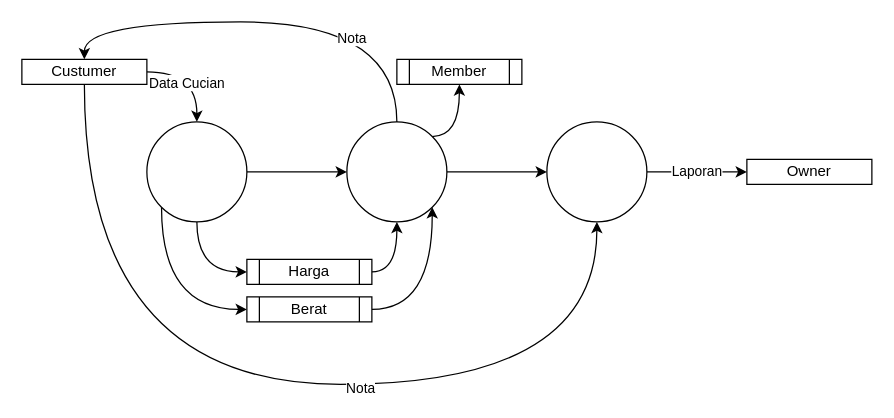
Image size: 894x418. Some labels were removed from this diagram. The shapes that lost their labels are listed below. From the top down, each one's box as (x1, y1, x2, y2) in pixels, then its label:
(146, 121, 247, 222): 1.0 Timbangan
(346, 121, 447, 222): 2.0 Transaksi
(546, 121, 647, 222): 3.0 Finishing
